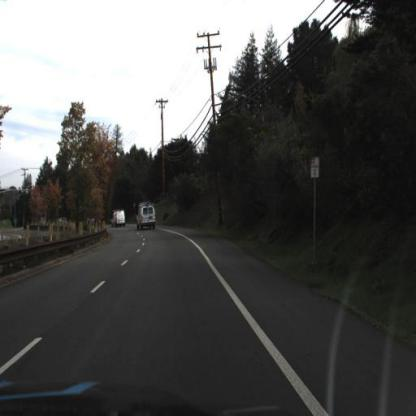car: (137, 202, 160, 235), (108, 210, 126, 231), (58, 215, 72, 227)
